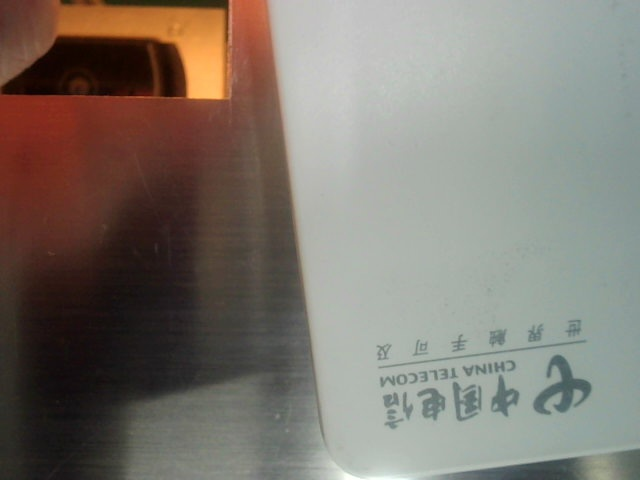AB_ChinaTelecom: (364, 315, 602, 430)
